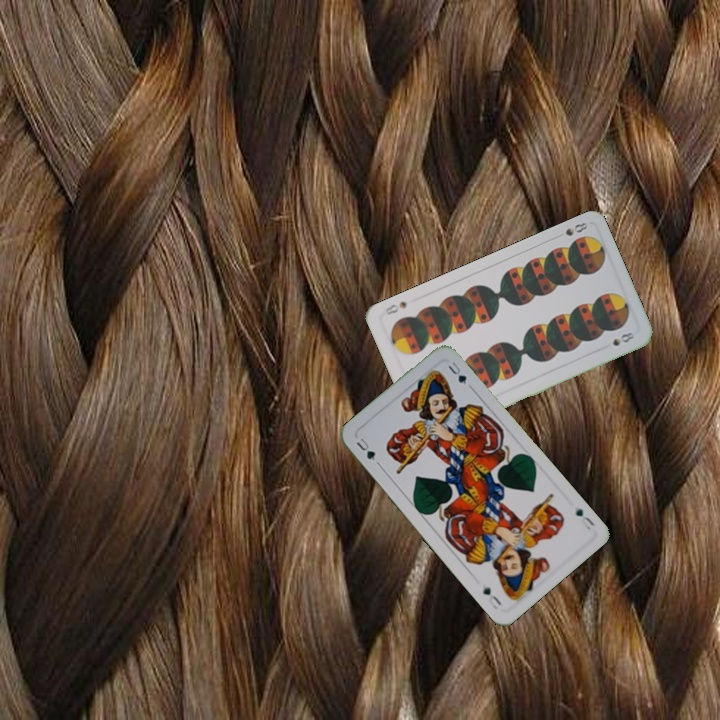GU: (352, 434, 378, 463), (571, 503, 597, 532)
S8: (551, 218, 590, 241)
